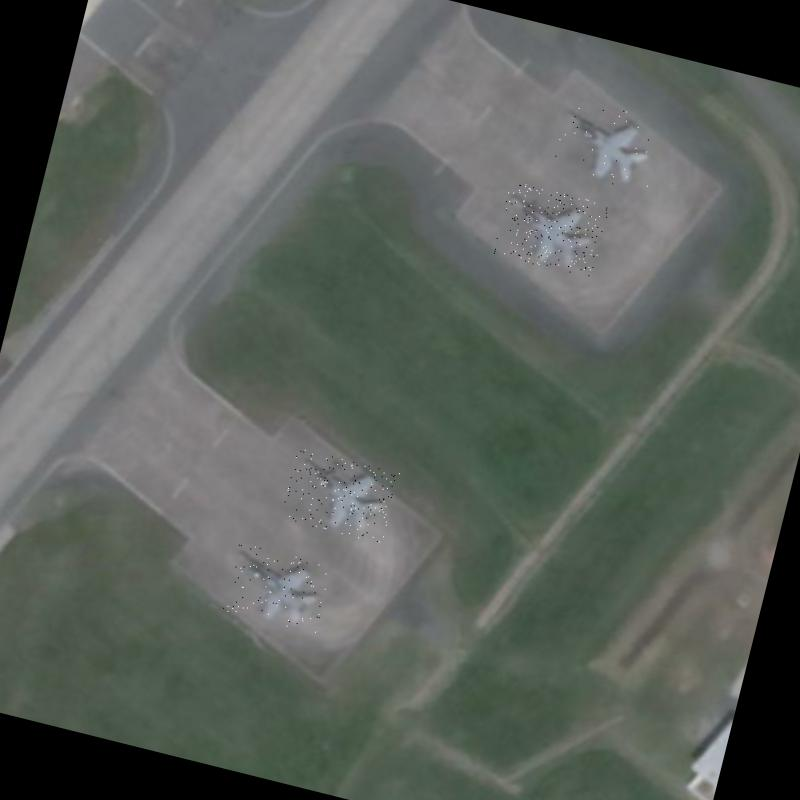A16: (280, 446, 400, 544), (492, 180, 609, 278), (551, 95, 664, 192), (221, 542, 334, 636)
